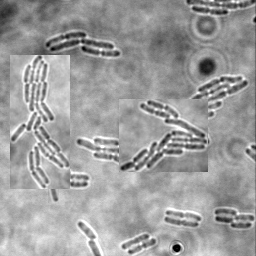Dividing: (128, 238, 157, 255), (166, 209, 202, 222), (55, 128, 68, 162), (164, 217, 200, 228), (48, 167, 59, 203), (192, 7, 229, 17), (71, 175, 89, 189)
Microcolony: (10, 55, 70, 189), (119, 99, 208, 172), (158, 76, 249, 147), (45, 32, 121, 57), (76, 137, 119, 168), (214, 208, 255, 229)
Rod: (121, 233, 150, 251), (78, 222, 99, 240), (71, 174, 90, 183)
